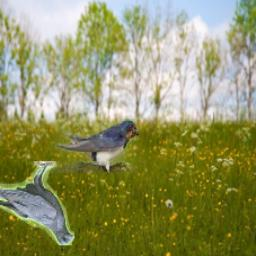Crow: (0, 162, 76, 247)
Swallow: (44, 119, 140, 173)
